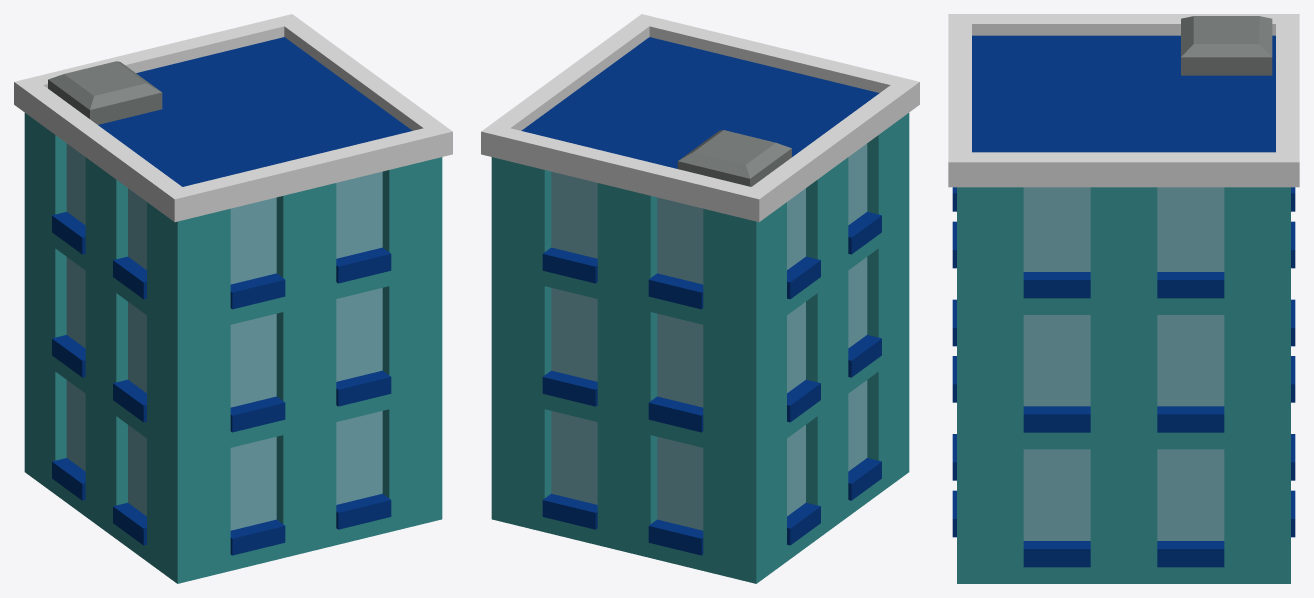
Rendered from buildingC.fbx.
3 renders of one model, left to right at view 1: azimuth 30°, elevation 25°; view 2: azimuth 150°, elevation 25°; view 3: azimuth 270°, elevation 25°, orthographic. The views are drawn at different scales.
Visible parts, largest first — view 1: BuildingC; view 2: BuildingC; view 3: BuildingC.
Part boxes in pixels (<box>): BuildingC: <box>14,14,452,583</box>; BuildingC: <box>481,14,919,583</box>; BuildingC: <box>948,14,1299,583</box>.
Size of the model in its own units: 840 by 1162 by 840.
